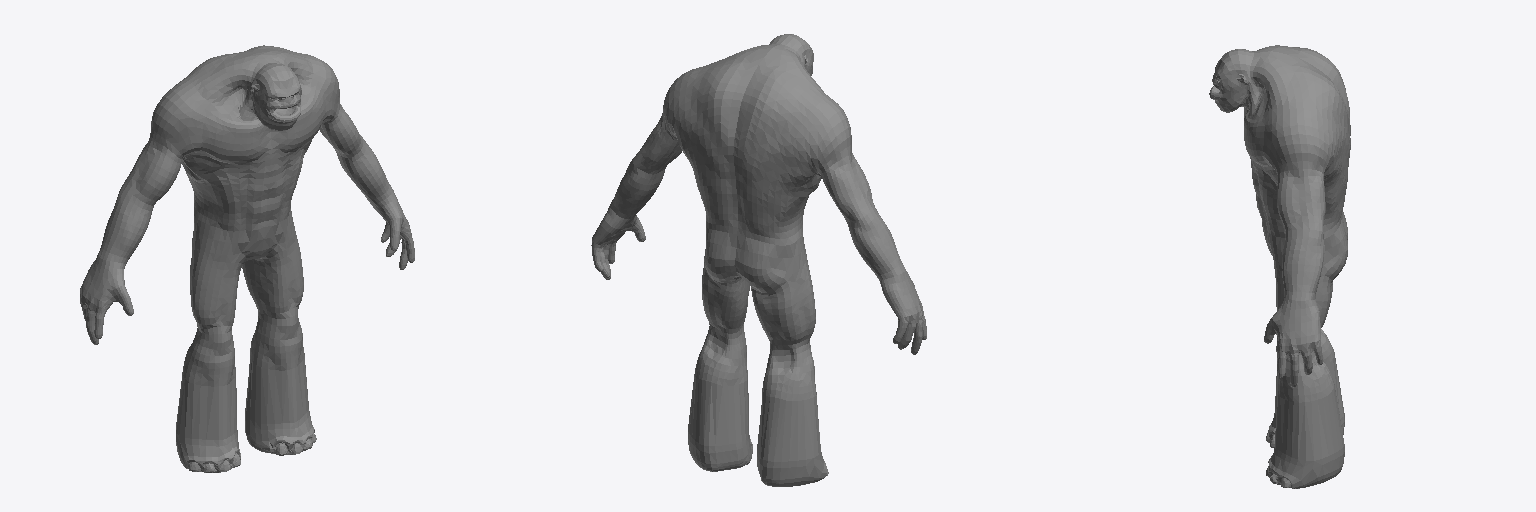
The model's file is Giant_Body_Lowpoly.obj.
The picture shows the model from 3 angles: view 1: azimuth 30°, elevation 25°; view 2: azimuth 150°, elevation 25°; view 3: azimuth 270°, elevation 25°; orthographic projection.
Visible parts, largest first — view 1: Giant_Body; view 2: Giant_Body; view 3: Giant_Body.
Boxes of the visible parts, box(x1,y1,x2,y2) form: Giant_Body: box(80, 45, 414, 472); Giant_Body: box(591, 34, 926, 486); Giant_Body: box(1209, 45, 1350, 488).
Bounding box in the file's own units: 125 × 152 × 47.44.